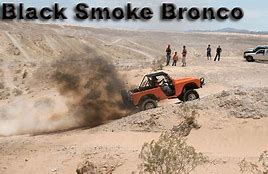smoke: (49, 54, 128, 130)
